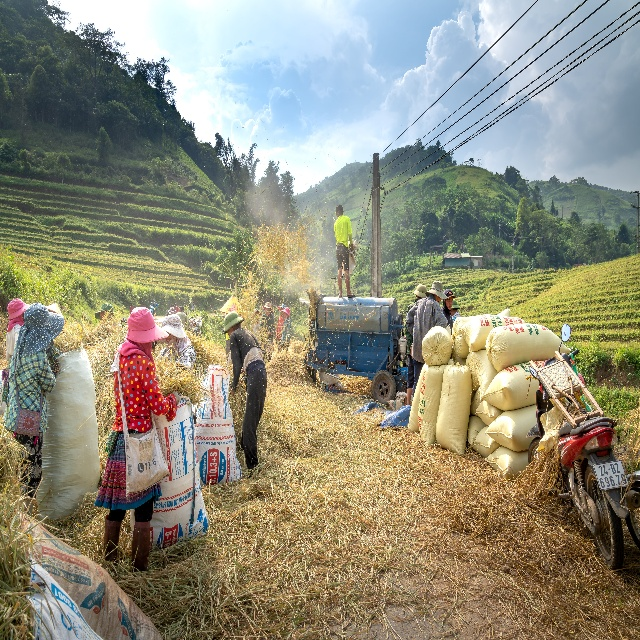Sin_guantes: (229, 386, 235, 397), (349, 242, 354, 253), (410, 347, 414, 359)
